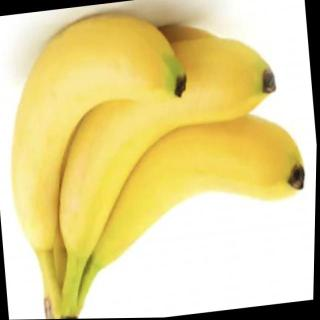banana: (40, 21, 293, 260), (0, 2, 206, 255), (73, 98, 315, 268)
